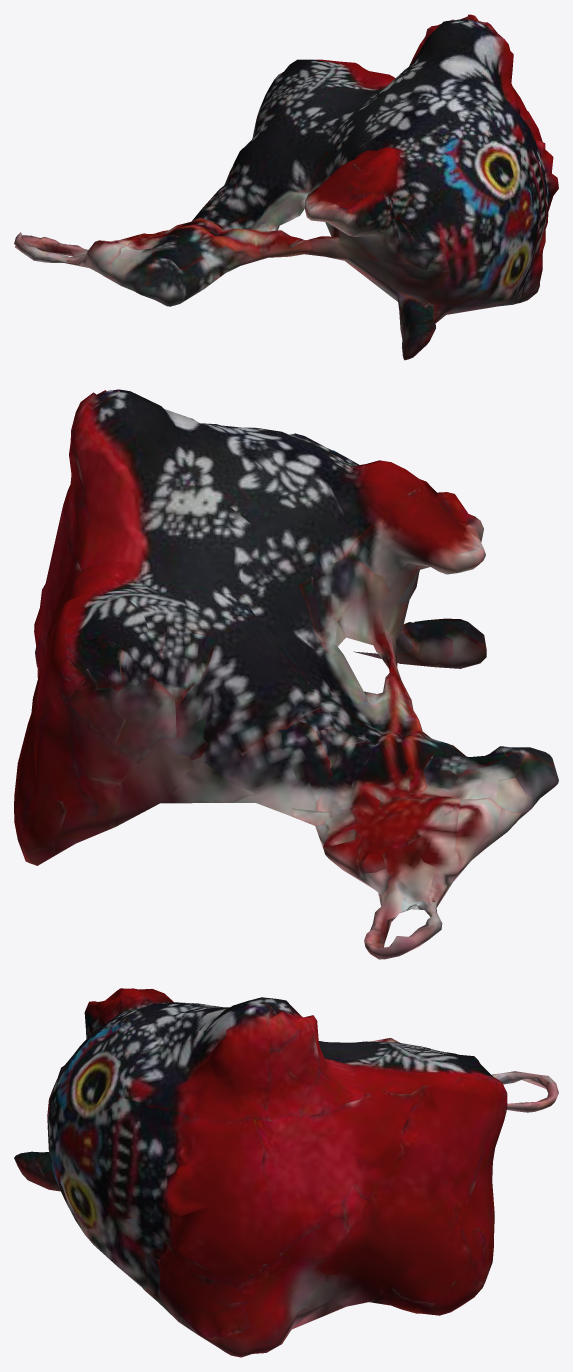
Rendered from hall.glb.
3 renders of one model, top to bottom at view 1: azimuth 30°, elevation 25°; view 2: azimuth 150°, elevation 25°; view 3: azimuth 270°, elevation 25°, orthographic. The views are drawn at different scales.
Size of the model in its own units: 1.18 by 0.8075 by 1.21.
Materials: 1 (1 with a texture image).
